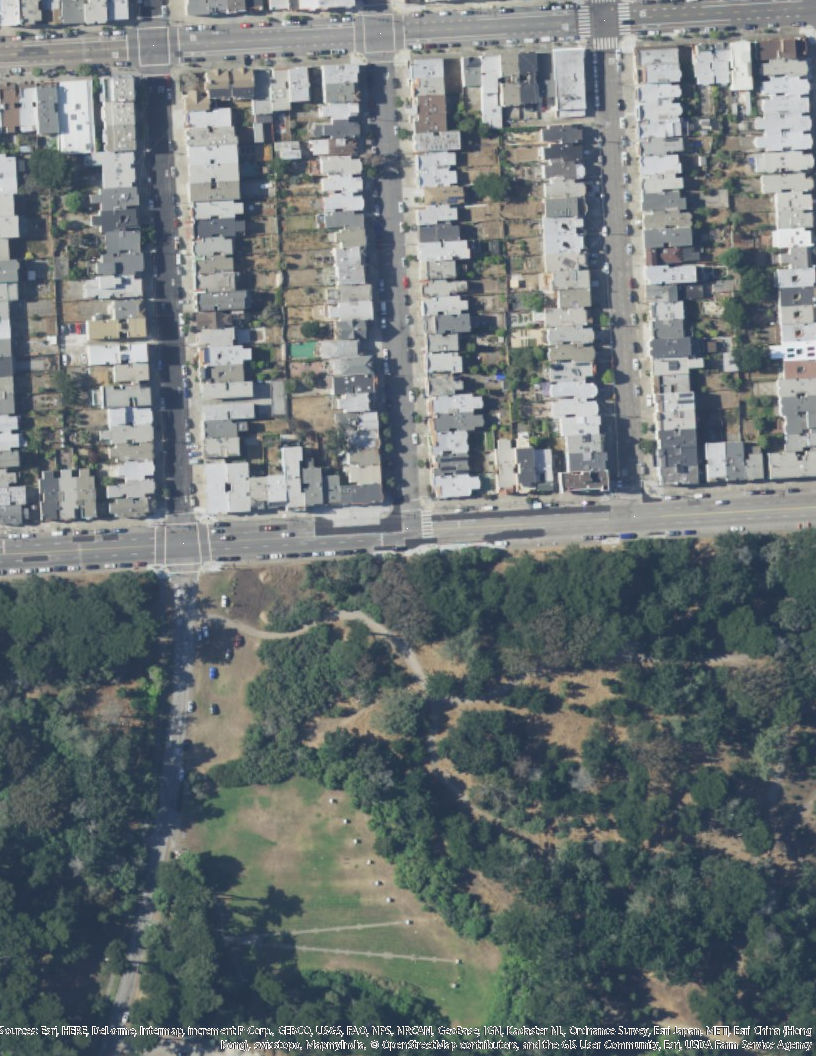zebracross: (574, 5, 592, 40), (615, 3, 631, 35), (420, 511, 435, 537), (593, 36, 618, 49)
